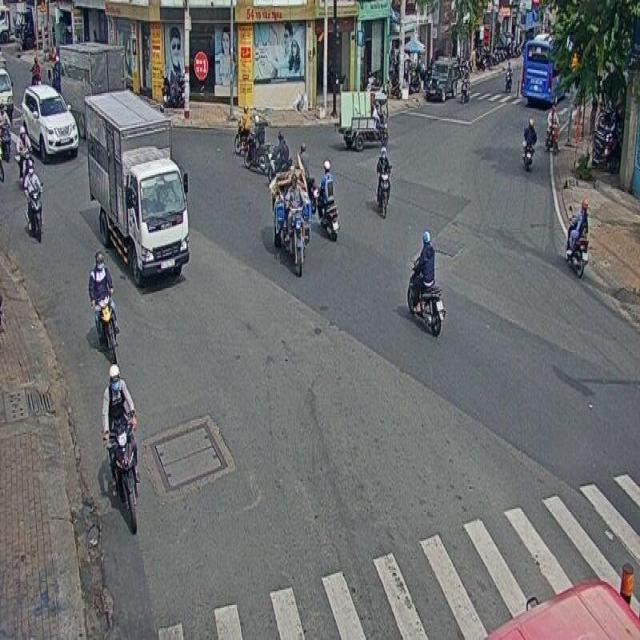car: (21, 84, 78, 160)
motorcycle: (102, 362, 138, 540), (406, 230, 444, 337), (89, 250, 118, 361), (565, 200, 589, 278), (317, 160, 338, 239), (22, 163, 42, 242), (376, 146, 391, 216)
truck: (84, 90, 187, 285)
